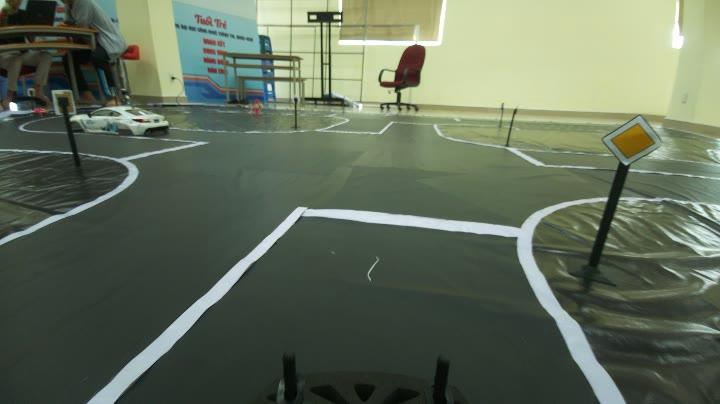priority: (597, 109, 660, 169)
